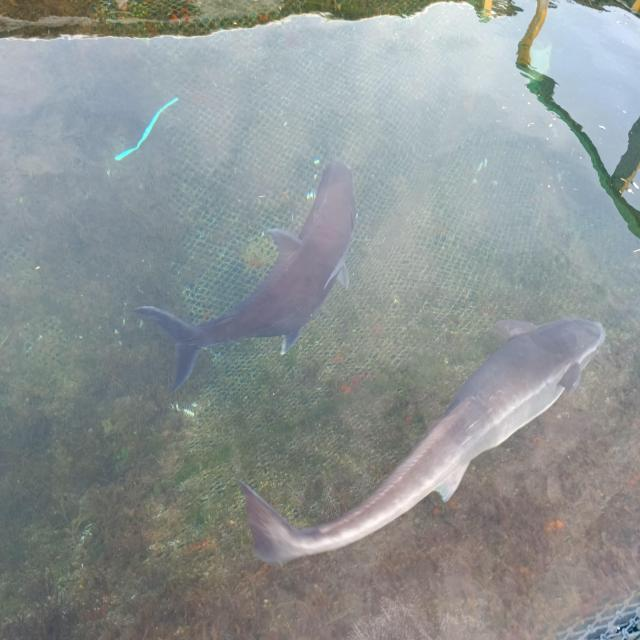ikan: (235, 315, 606, 567), (132, 158, 358, 396)
